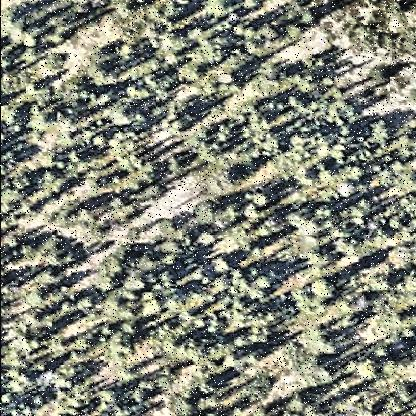tree-top: (40, 233, 74, 268), (304, 357, 338, 387), (215, 199, 245, 228), (108, 331, 139, 359), (369, 118, 396, 149), (139, 294, 167, 323), (212, 168, 242, 194), (249, 267, 276, 295), (91, 63, 120, 89), (292, 69, 321, 95), (357, 357, 383, 385), (312, 276, 338, 303), (311, 329, 337, 355), (95, 270, 119, 296), (309, 249, 335, 272), (250, 187, 274, 211), (198, 225, 222, 249), (76, 292, 99, 317), (195, 198, 214, 228), (370, 273, 394, 296), (138, 251, 160, 275), (259, 98, 282, 120), (118, 42, 140, 64), (211, 256, 233, 278), (14, 172, 36, 194), (177, 396, 199, 416), (373, 65, 393, 86), (86, 174, 106, 195), (206, 2, 232, 18), (289, 91, 309, 111), (132, 388, 152, 408), (94, 134, 112, 154), (288, 21, 306, 41), (303, 9, 321, 28), (388, 216, 406, 234), (116, 2, 139, 16), (389, 1, 408, 16), (241, 1, 261, 13)
